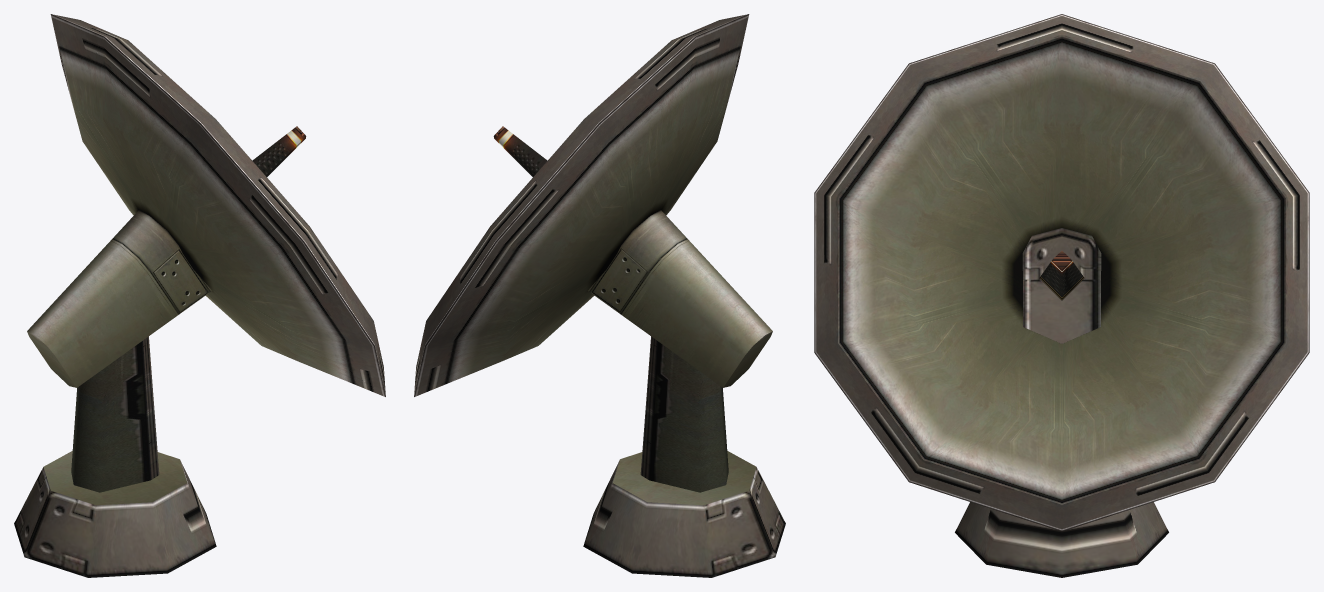
Rendered from satellite.obj.
The picture shows the model from 3 angles, left to right: view 1: azimuth 30°, elevation 25°; view 2: azimuth 150°, elevation 25°; view 3: azimuth 270°, elevation 25°; orthographic projection. The views are drawn at different scales.
Visible parts, largest first — view 1: group30 pCylinder27 pCylinder24, group30 pCylinder26, group30 pCylinder27, pCylinder25 group30, group30 pCylinder27 pCylinder24 pCube69; view 2: group30 pCylinder27 pCylinder24, group30 pCylinder26, group30 pCylinder27, pCylinder25 group30, group30 pCylinder27 pCylinder24 pCube69; view 3: group30 pCylinder27 pCylinder24, group30 pCylinder26, group30 pCylinder27, group30 pCylinder27 pCylinder24 pCube69.
Boxes of the visible parts, left/top/right/bottom form: group30 pCylinder27 pCylinder24: left=50, top=14, right=385, bottom=396; group30 pCylinder26: left=14, top=451, right=216, bottom=577; group30 pCylinder27: left=27, top=210, right=211, bottom=387; pCylinder25 group30: left=71, top=336, right=159, bottom=492; group30 pCylinder27 pCylinder24 pCube69: left=252, top=126, right=306, bottom=176; group30 pCylinder27 pCylinder24: left=414, top=14, right=749, bottom=396; group30 pCylinder26: left=583, top=451, right=785, bottom=577; group30 pCylinder27: left=588, top=210, right=772, bottom=387; pCylinder25 group30: left=640, top=336, right=728, bottom=492; group30 pCylinder27 pCylinder24 pCube69: left=493, top=126, right=547, bottom=176; group30 pCylinder27 pCylinder24: left=814, top=14, right=1309, bottom=531; group30 pCylinder26: left=955, top=502, right=1168, bottom=577; group30 pCylinder27: left=1022, top=228, right=1101, bottom=343; group30 pCylinder27 pCylinder24 pCube69: left=1039, top=251, right=1084, bottom=300.
Size of the model in its own units: 4.95 by 7.61 by 6.67.
Materials: 1 (1 with a texture image).
